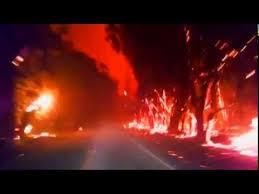fire: (18, 83, 60, 138)
